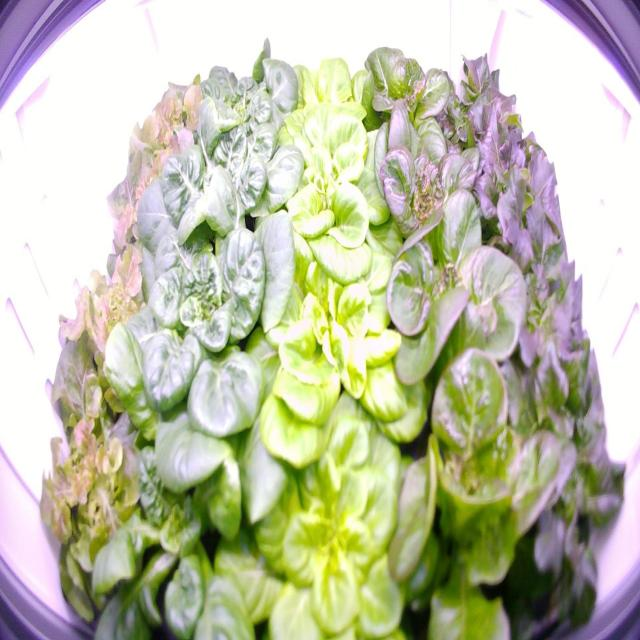young: (96, 154, 310, 452), (372, 342, 578, 638), (234, 368, 442, 635), (248, 204, 437, 473), (74, 393, 282, 636), (365, 178, 534, 408), (143, 88, 305, 236), (357, 92, 492, 268), (271, 102, 391, 250), (350, 32, 460, 168), (190, 31, 300, 139), (269, 42, 377, 145)
